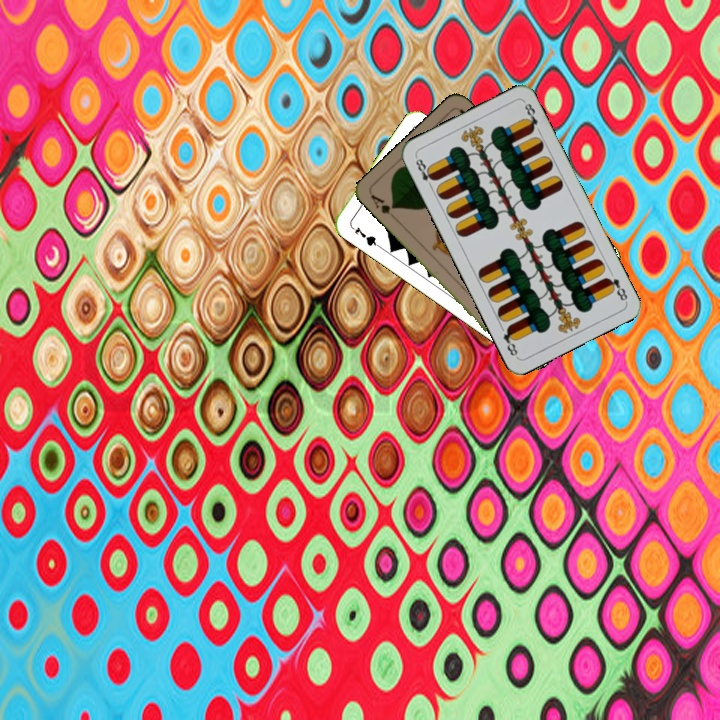E8: (411, 153, 438, 191), (602, 273, 630, 303)
G7: (346, 221, 382, 249)
GA: (366, 190, 399, 223)
